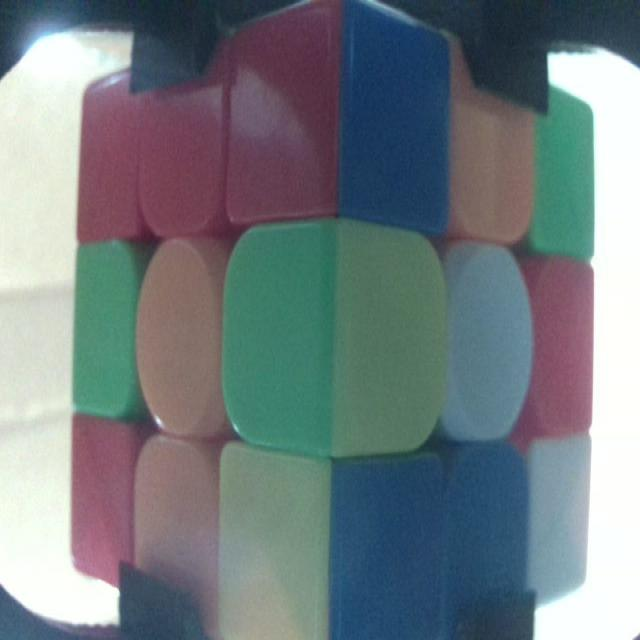b: (350, 7, 450, 225), (333, 461, 435, 640), (438, 448, 528, 635)
g: (224, 222, 334, 450), (534, 81, 595, 255), (75, 242, 135, 416)
o: (450, 38, 530, 242), (140, 246, 224, 439), (134, 442, 215, 636)
r: (229, 3, 338, 215), (140, 53, 224, 228), (530, 255, 595, 433), (72, 419, 130, 578), (82, 84, 137, 237)
w: (442, 244, 531, 441), (526, 440, 590, 610)
y: (341, 225, 438, 455), (219, 453, 328, 640)
